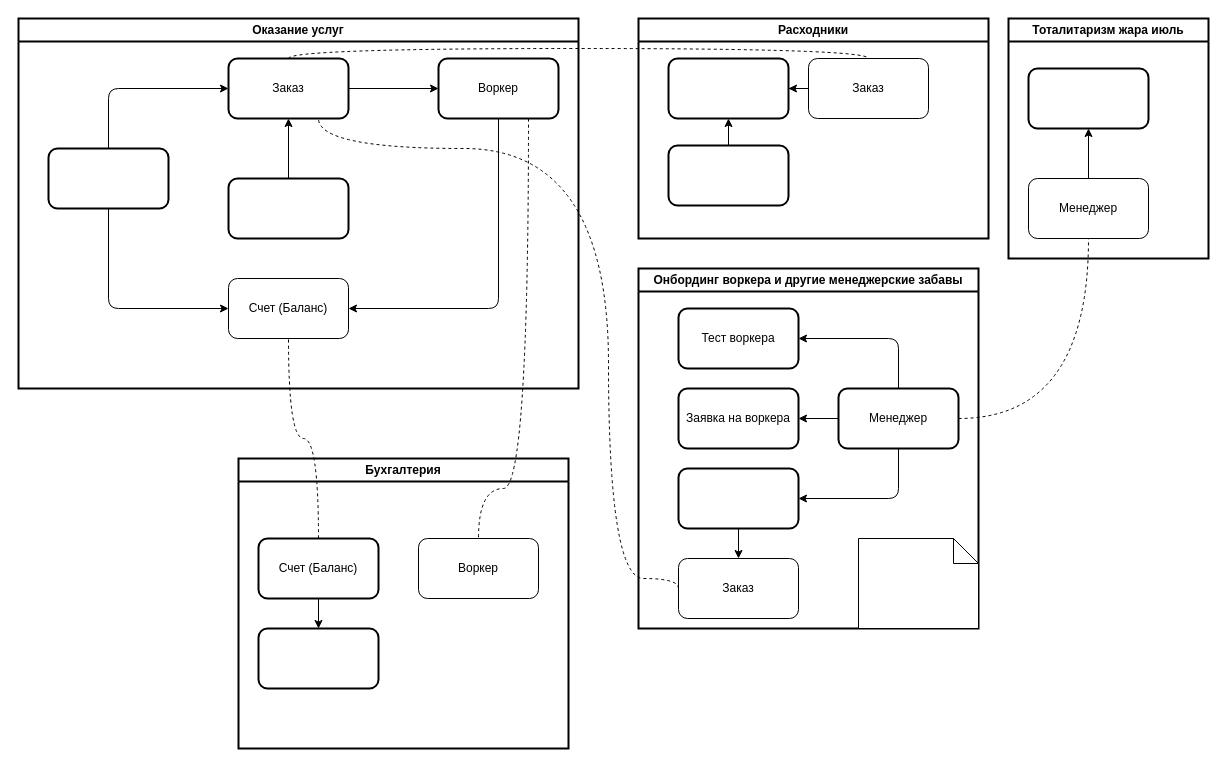
The diagram is 1226 pixels wide and 766 high, and some of its shapes have lost their labels. The centre of each missing label's shape, as x and y in pixels:
"Клиент" goes at (108,178).
"Контроль качества" goes at (738,498).
"Материалы" goes at (728,88).
"Некоторый HR Space получается" goes at (918,583).
"Сотрудник" goes at (728,175).
"Ставка" goes at (1088,98).
"Транзакция" goes at (318,658).
"Услуга" goes at (288,208).
